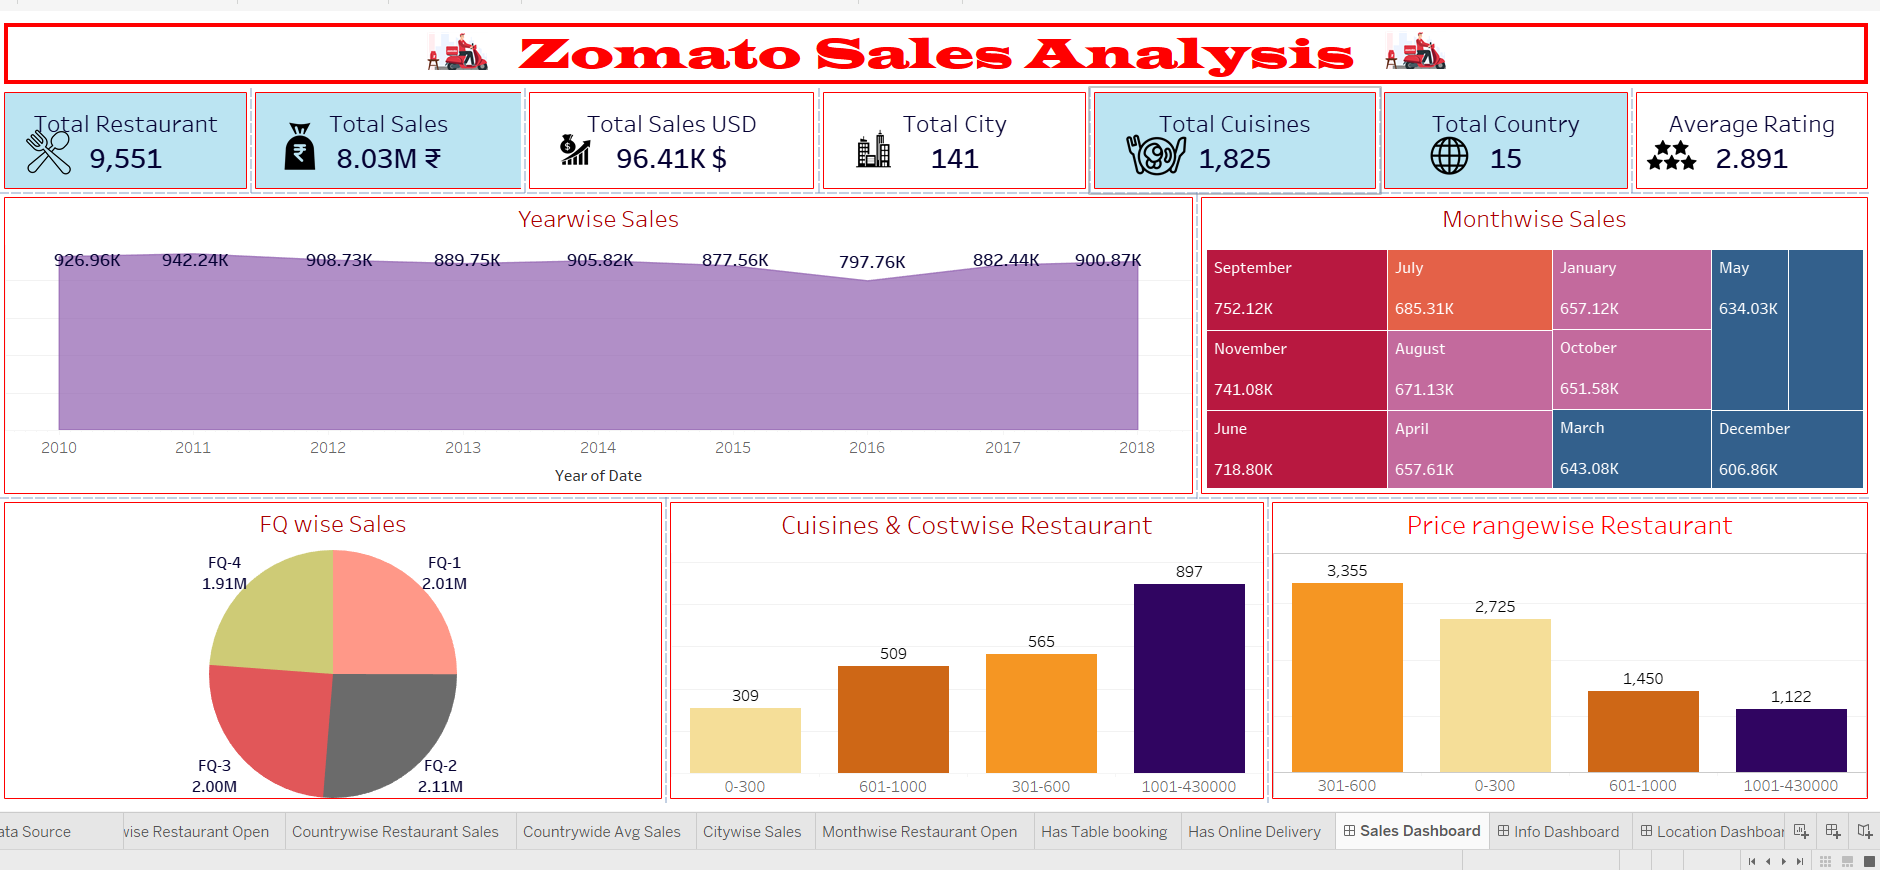

The page's visual inventory and layout, read from the dashboard file:
{"tool":"tableau","page":{"name":"Sales Dashboard","canvas":[1000,1000],"units":"permille","ordinal":2},"visuals":[{"type":"title","box":[4.7,10,990.6,86.2]},{"type":"image","param":"Image/zomato-posted-a-1222-crore-loss-but-its-stock-gained-18-reasons-behind-the","box":[190.1,22.3,50.1,48.2]},{"type":"image","param":"Image/zomato-posted-a-1222-crore-loss-but-its-stock-gained-18-reasons-behind-the","box":[737.8,24.7,94.3,48.2]},{"type":"image","param":"Image/zomato-posted-a-1222-crore-loss-but-its-stock-gained-18-reasons-behind-the","box":[230.4,25.9,94.3,48.2]},{"type":"worksheet","title":"Total Restaurant ","mark":"Automatic","box":[4.7,96.2,132.8,130.7]},{"type":"worksheet","title":"Total Sales Indian rupees","mark":"Automatic","box":[137.5,96.2,145.3,130.7]},{"type":"worksheet","title":"Total Sales USD","mark":"Automatic","box":[282.8,96.2,155.2,130.7]},{"type":"worksheet","title":"Total City","mark":"Automatic","box":[438,96.2,143.5,130.7]},{"type":"worksheet","title":"Total Cuisines","mark":"Automatic","box":[581.5,96.2,153.3,130.7]},{"type":"worksheet","title":"Total Country","mark":"Automatic","box":[734.8,96.2,133.6,130.7]},{"type":"worksheet","title":"Avg Rating","mark":"Automatic","box":[868.4,96.2,126.9,130.7]},{"type":"image","param":"Image/noun-rupees-1988343.png","box":[153.6,137.5,33.4,62.3]},{"type":"image","param":"Image/noun-rupees-1988343 1.png","box":[150.3,138.7,33.8,62.3]},{"type":"image","param":"Image/city-6417544 1.png","box":[456.9,146.9,30.2,49.4]},{"type":"image","param":"Image/noun-restaurant-6412229.png","box":[17.5,148.1,33.2,57.6]},{"type":"image","param":"Image/Food-5662652 2.png","box":[600,150.4,32.8,58.8]},{"type":"image","param":"Image/492234-200 1.png","box":[299.8,151.6,29.1,42.3]},{"type":"image","param":"Image/492234-200.png","box":[296.3,152.8,29,42.3]},{"type":"image","param":"Image/World-2201294 2.png","box":[761.5,155.1,22.7,51.7]},{"type":"image","param":"Image/rating-2945163 1.png","box":[876.1,159.6,27.2,45.2]},{"type":"worksheet","title":"Yearwise Sales","mark":"Area","rows":["Calculation_1047931380030386182"],"cols":["Calculation_1047931380027269120"],"box":[4.7,227,633.7,381.5]},{"type":"worksheet","title":"Monthwise Sales","mark":"Automatic","box":[638.4,227,356.9,381.5]},{"type":"worksheet","title":"FQ wise Sales","mark":"Pie","box":[4.7,608.5,352.4,381.5]},{"type":"worksheet","title":"Cuisines & Costwise Restaurant","mark":"Automatic","rows":["Cuisines"],"cols":["Calculation_1047931380030693383"],"box":[357.1,608.5,318.7,381.5]},{"type":"worksheet","title":"Price rangewise Restaurant","mark":"Automatic","rows":["RestaurantID"],"cols":["Countryname","Calculation_1047931380030693383"],"box":[675.8,608.5,319.5,381.5]}]}

Visuals, with their boxes on the dashboard's canvas, which has no fixed pixel size, in thousandths of its width and height (x1, y1, x2, y2). These are canvas units, not pixel positions in the 1880x870 screenshot, which may show the page scaled, cropped or inside an application window:
title: box=[5, 10, 995, 96]
image: box=[190, 22, 240, 70]
image: box=[738, 25, 832, 73]
image: box=[230, 26, 325, 74]
"Total Restaurant " worksheet: box=[5, 96, 138, 227]
"Total Sales Indian rupees" worksheet: box=[138, 96, 283, 227]
"Total Sales USD" worksheet: box=[283, 96, 438, 227]
"Total City" worksheet: box=[438, 96, 582, 227]
"Total Cuisines" worksheet: box=[582, 96, 735, 227]
"Total Country" worksheet: box=[735, 96, 868, 227]
"Avg Rating" worksheet: box=[868, 96, 995, 227]
image: box=[154, 138, 187, 200]
image: box=[150, 139, 184, 201]
image: box=[457, 147, 487, 196]
image: box=[18, 148, 51, 206]
image: box=[600, 150, 633, 209]
image: box=[300, 152, 329, 194]
image: box=[296, 153, 325, 195]
image: box=[762, 155, 784, 207]
image: box=[876, 160, 903, 205]
"Yearwise Sales" worksheet (Area marks): box=[5, 227, 638, 608]
"Monthwise Sales" worksheet: box=[638, 227, 995, 608]
"FQ wise Sales" worksheet (Pie marks): box=[5, 608, 357, 990]
"Cuisines & Costwise Restaurant" worksheet: box=[357, 608, 676, 990]
"Price rangewise Restaurant" worksheet: box=[676, 608, 995, 990]
